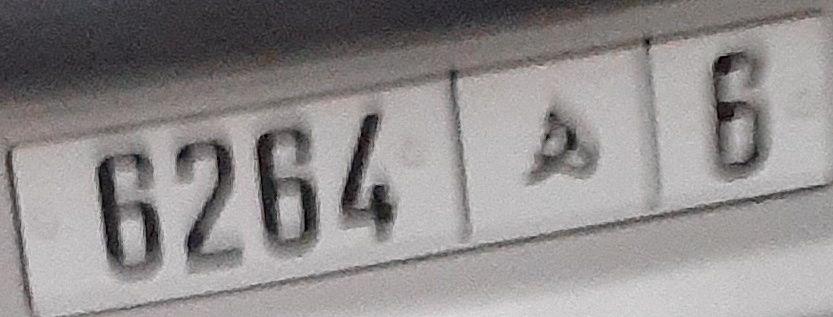2: (170, 136, 247, 273)
4: (336, 110, 403, 246)
6: (91, 146, 165, 285), (252, 124, 323, 261), (704, 44, 773, 183)
h: (513, 100, 607, 190)
